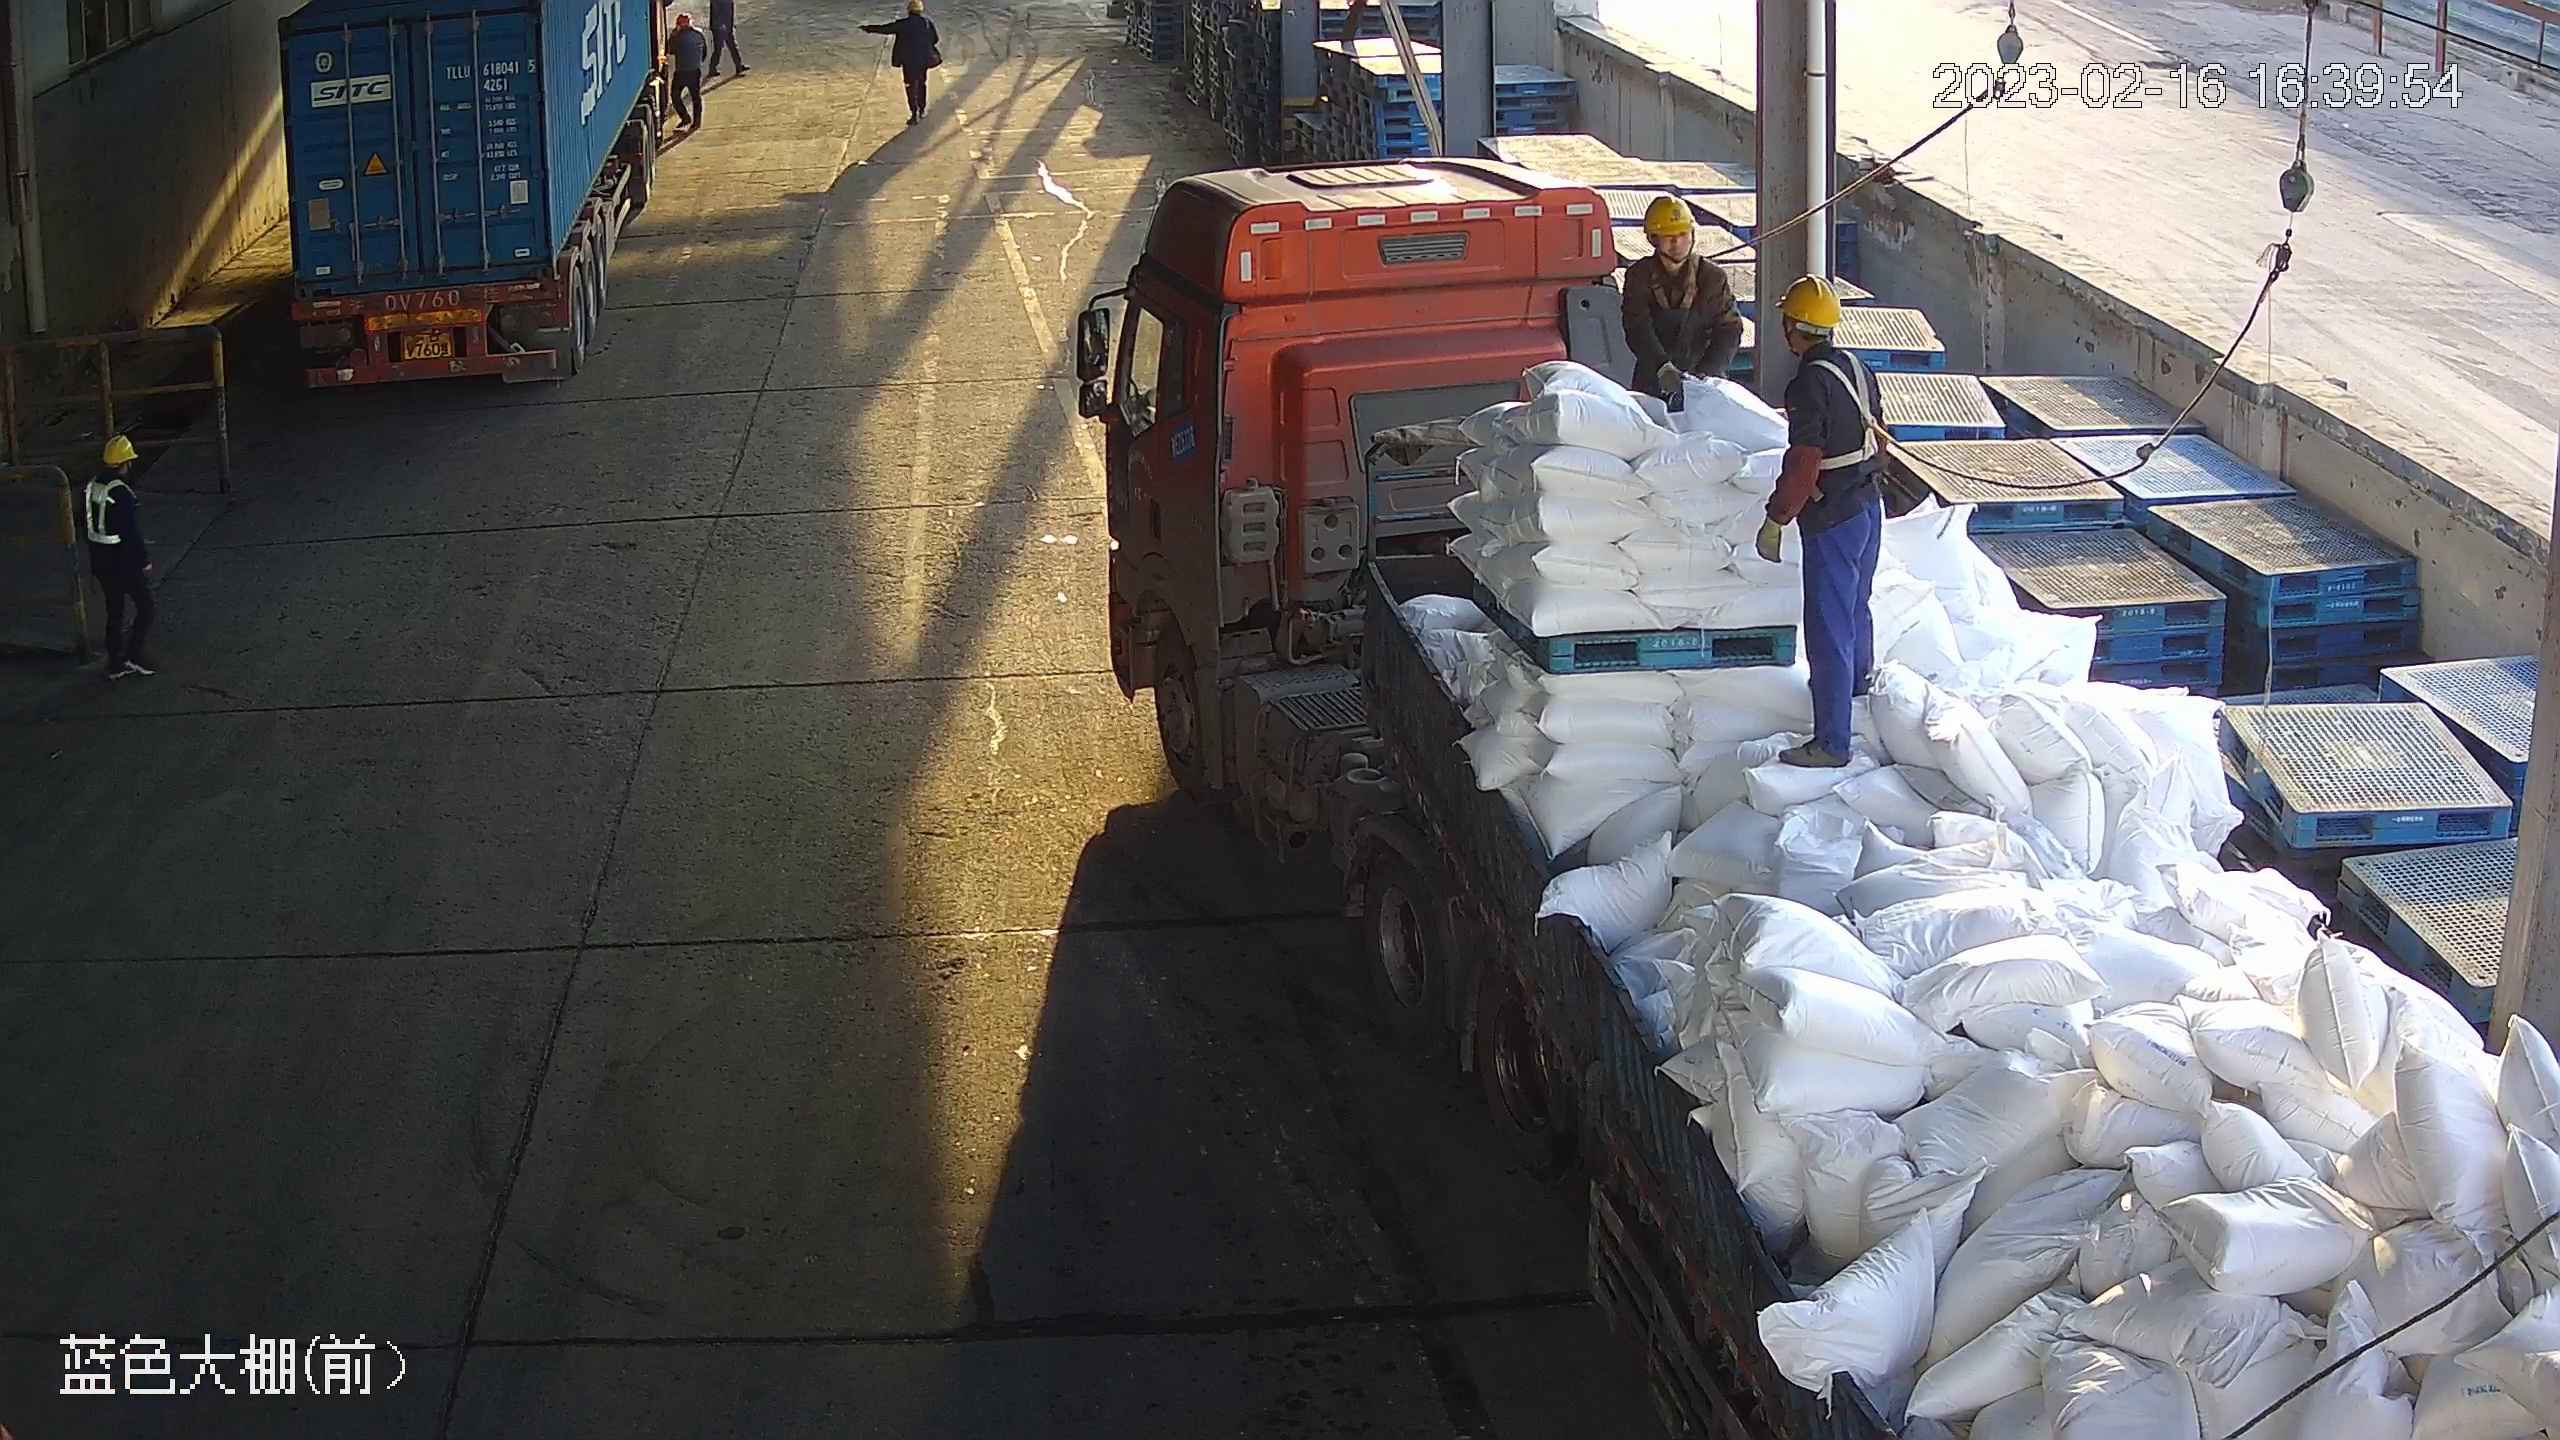belt: (1806, 349, 1906, 471), (84, 474, 138, 546), (1653, 254, 1701, 311)
head: (1773, 273, 1882, 423), (1624, 197, 1729, 308), (83, 435, 140, 506), (894, 1, 936, 37), (669, 14, 703, 46)
helmet: (1774, 274, 1843, 328), (1643, 195, 1697, 237), (101, 434, 140, 464), (675, 13, 692, 26), (906, 1, 924, 12)
people: (1754, 273, 1894, 770), (1621, 194, 1744, 411), (78, 434, 158, 682), (859, 1, 944, 126), (666, 13, 708, 130), (709, 1, 751, 77)
truck: (1072, 154, 2560, 1440), (276, 1, 676, 398)
